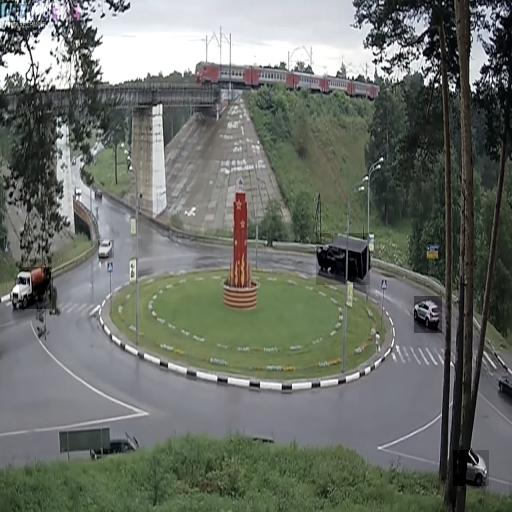小汽车: (316, 234, 370, 286), (19, 268, 51, 310), (454, 450, 490, 486), (414, 296, 442, 333), (98, 240, 114, 258)
